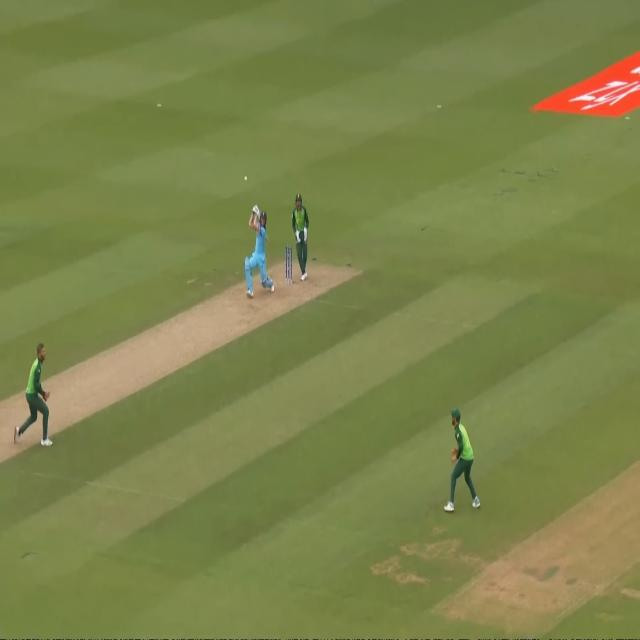ball: (242, 170, 251, 188)
